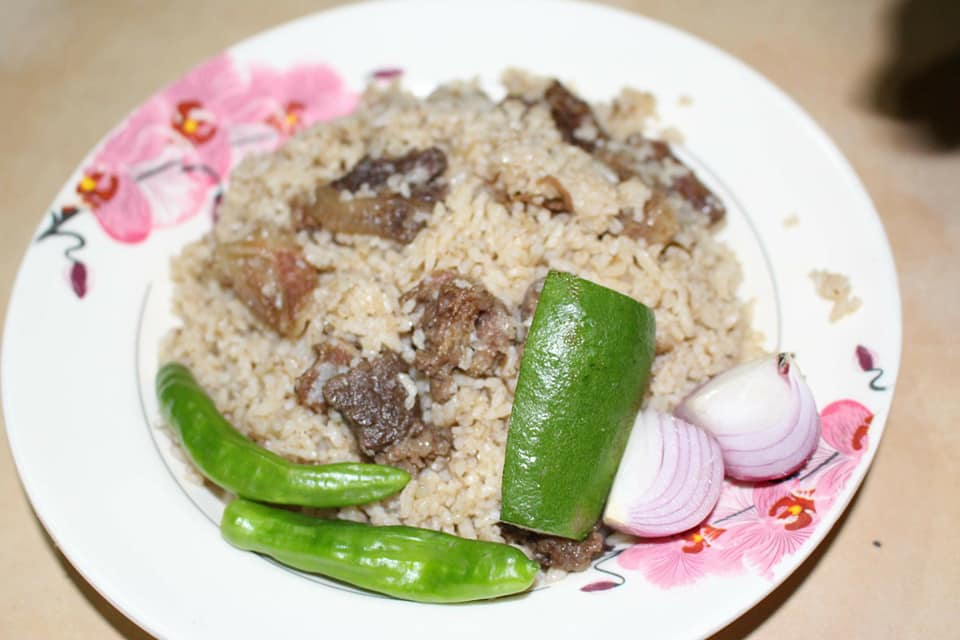tehari: (150, 75, 807, 590)
